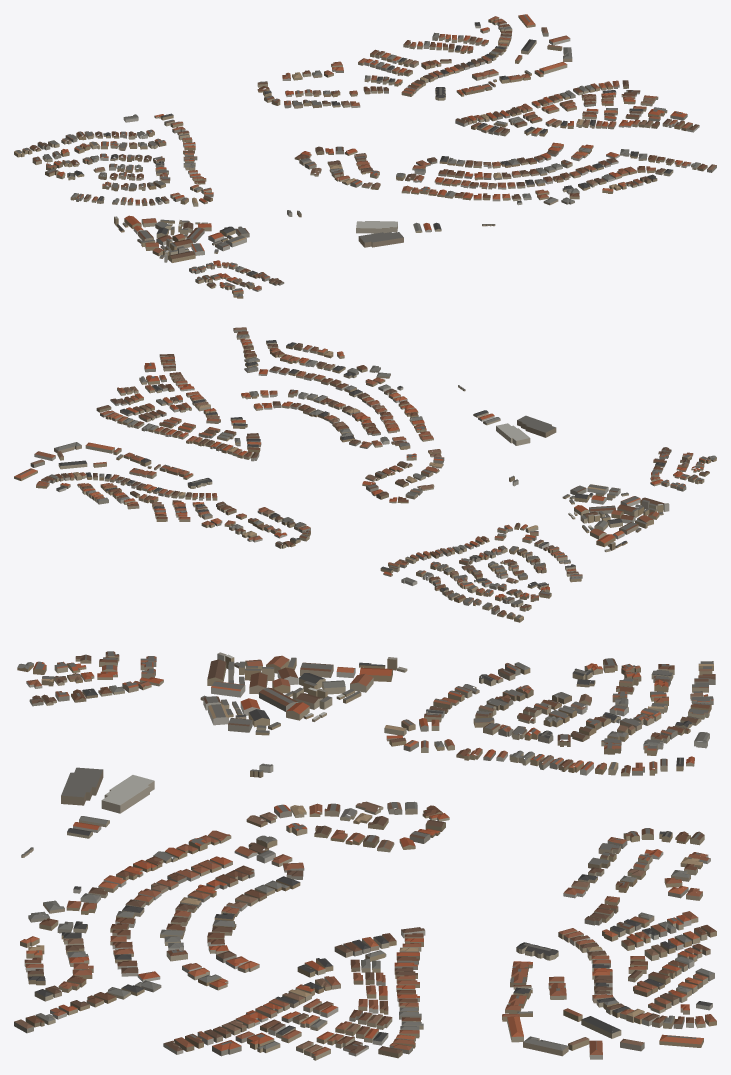
3 renders of one model, top to bottom at view 1: azimuth 30°, elevation 25°; view 2: azimuth 150°, elevation 25°; view 3: azimuth 270°, elevation 25°, orthographic. The views are drawn at different scales.
Visible parts, largest first — view 1: buildings_r6_c7_lod1; view 2: buildings_r6_c7_lod1; view 3: buildings_r6_c7_lod1.
Part boxes in pixels (x1,y1,x2,y2): buildings_r6_c7_lod1: [14, 14, 716, 298]; buildings_r6_c7_lod1: [14, 327, 716, 622]; buildings_r6_c7_lod1: [14, 651, 716, 1060].
Bounding box in the file's own units: 1147 × 52.4 × 805.
